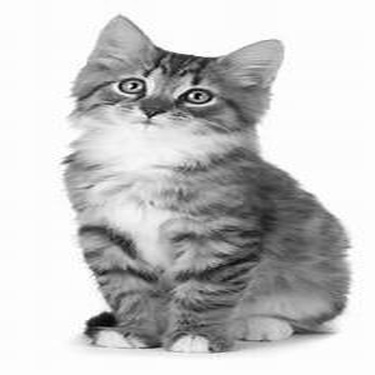cat: (60, 9, 352, 354)
